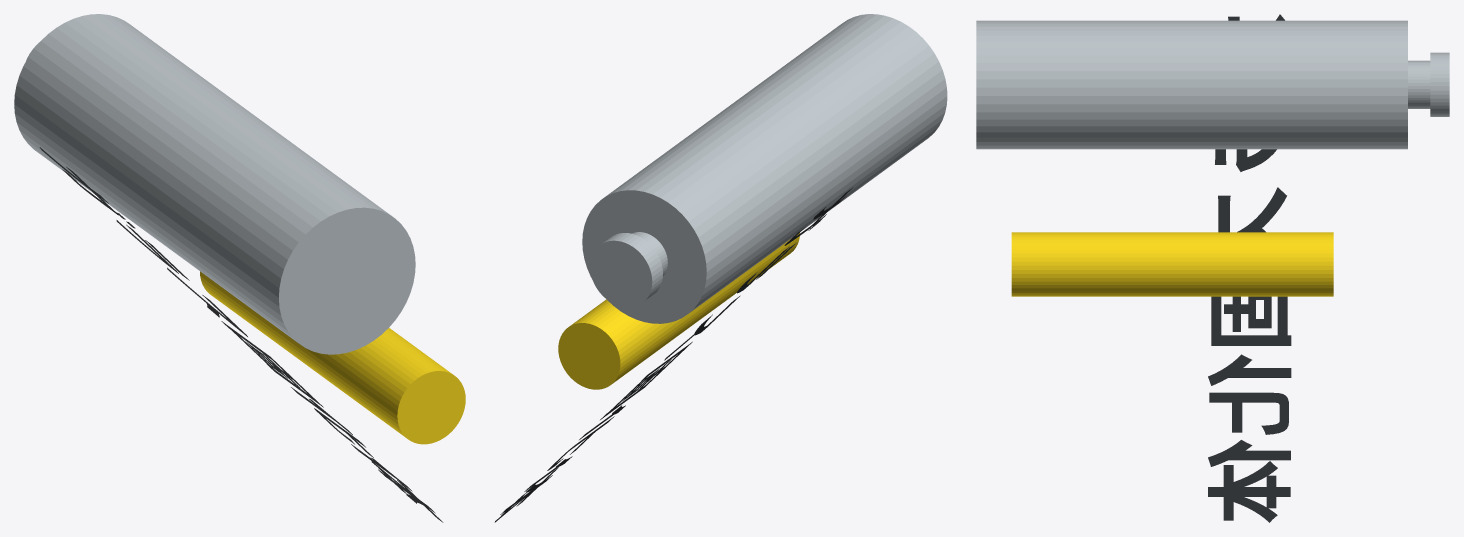
File: tinker.obj
The picture shows the model from 3 angles, left to right: view 1: azimuth 30°, elevation 25°; view 2: azimuth 150°, elevation 25°; view 3: azimuth 270°, elevation 25°; orthographic projection. The views are drawn at different scales.
Parts seen in each view (by area): view 1: group_0_12568524, group_0_16768282, group_0_2829873; view 2: group_0_12568524, group_0_16768282, group_0_2829873; view 3: group_0_12568524, group_0_16768282, group_0_2829873.
Boxes of the visible parts, box(x1,y1,x2,y2) form: group_0_12568524: box(14, 14, 415, 354); group_0_16768282: box(200, 271, 465, 444); group_0_2829873: box(39, 147, 443, 522); group_0_12568524: box(582, 14, 947, 323); group_0_16768282: box(558, 233, 799, 389); group_0_2829873: box(494, 187, 853, 522); group_0_12568524: box(976, 20, 1449, 149); group_0_16768282: box(1011, 232, 1333, 296); group_0_2829873: box(1208, 14, 1291, 522).
Bounding box in the file's own units: 109 × 136 × 147.
